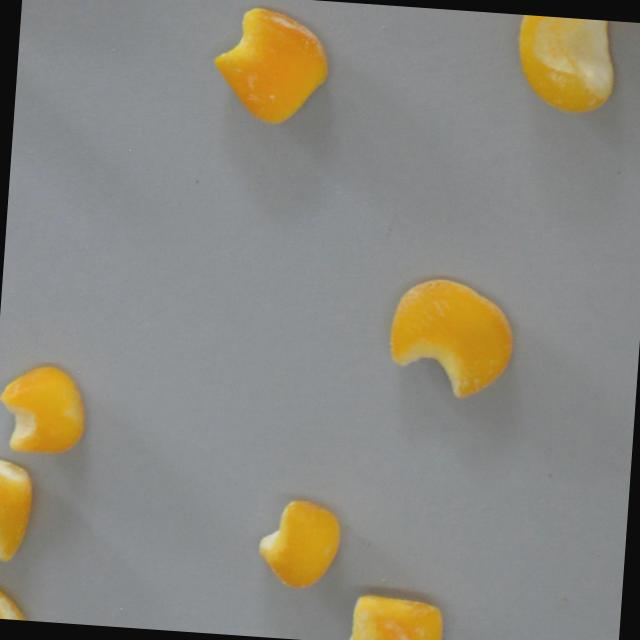no_canjicado: (251, 496, 346, 594)
no_desgerminado: (511, 13, 620, 115)
pelicula: (383, 272, 518, 402), (204, 2, 336, 133), (0, 358, 92, 459), (343, 590, 446, 640), (0, 455, 36, 567), (0, 579, 36, 621)
